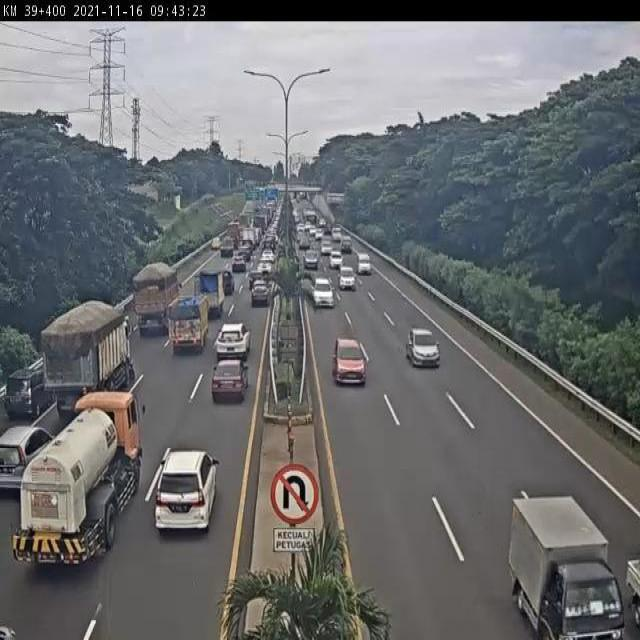car: (150, 435, 227, 552), (0, 417, 58, 504), (3, 357, 57, 431), (325, 332, 378, 393), (199, 352, 248, 412), (208, 317, 254, 373), (402, 318, 448, 371), (624, 517, 640, 640), (245, 276, 275, 316), (310, 276, 339, 313), (337, 263, 356, 292), (246, 267, 267, 293), (301, 248, 323, 272), (219, 264, 235, 296), (229, 251, 248, 276), (355, 252, 374, 277), (204, 233, 224, 255), (257, 260, 275, 281)
small truck: (507, 490, 616, 640)
truck-l-: (41, 300, 132, 415), (134, 262, 182, 338)
truck-m-: (8, 386, 152, 582), (167, 295, 209, 356), (193, 269, 226, 319)
